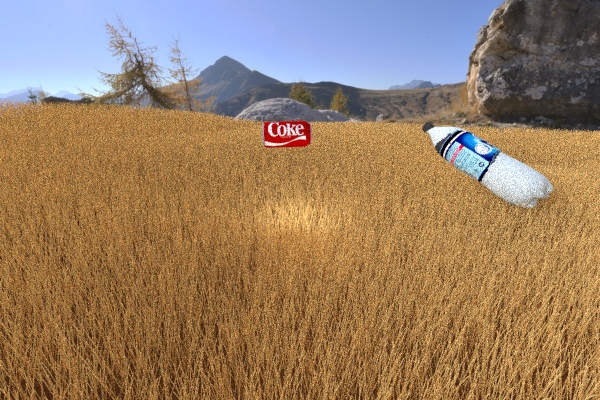Plastic Bottle: (422, 122, 553, 208), (261, 120, 312, 147)
